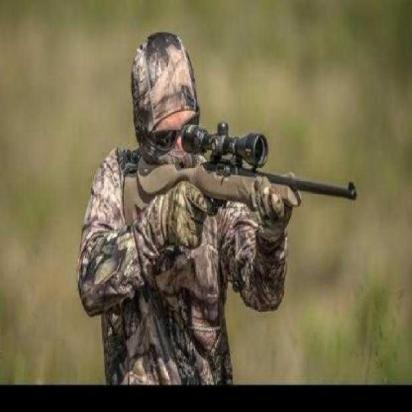Gun: (128, 141, 357, 224)
